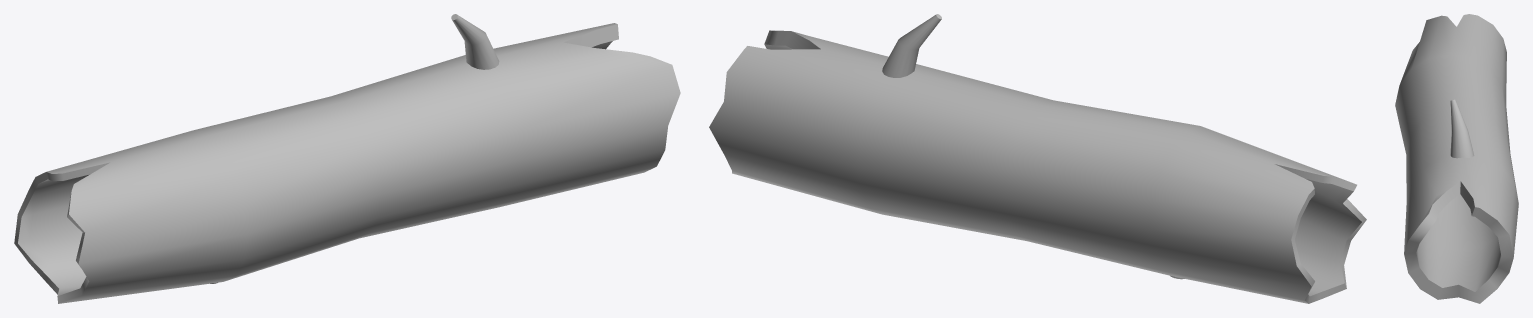
File: Log.fbx
The picture shows the model from 3 angles, left to right: view 1: azimuth 30°, elevation 25°; view 2: azimuth 150°, elevation 25°; view 3: azimuth 270°, elevation 25°; orthographic projection. The views are drawn at different scales.
Visible parts, largest first — view 1: Log; view 2: Log; view 3: Log.
Part boxes in pixels (x1,y1,x2,y2): Log: (14, 14, 680, 303); Log: (709, 14, 1366, 303); Log: (1395, 14, 1518, 303).
Bounding box in the file's own units: 2.02 × 0.6592 × 0.5008.
